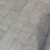others: (1, 1, 47, 48)
